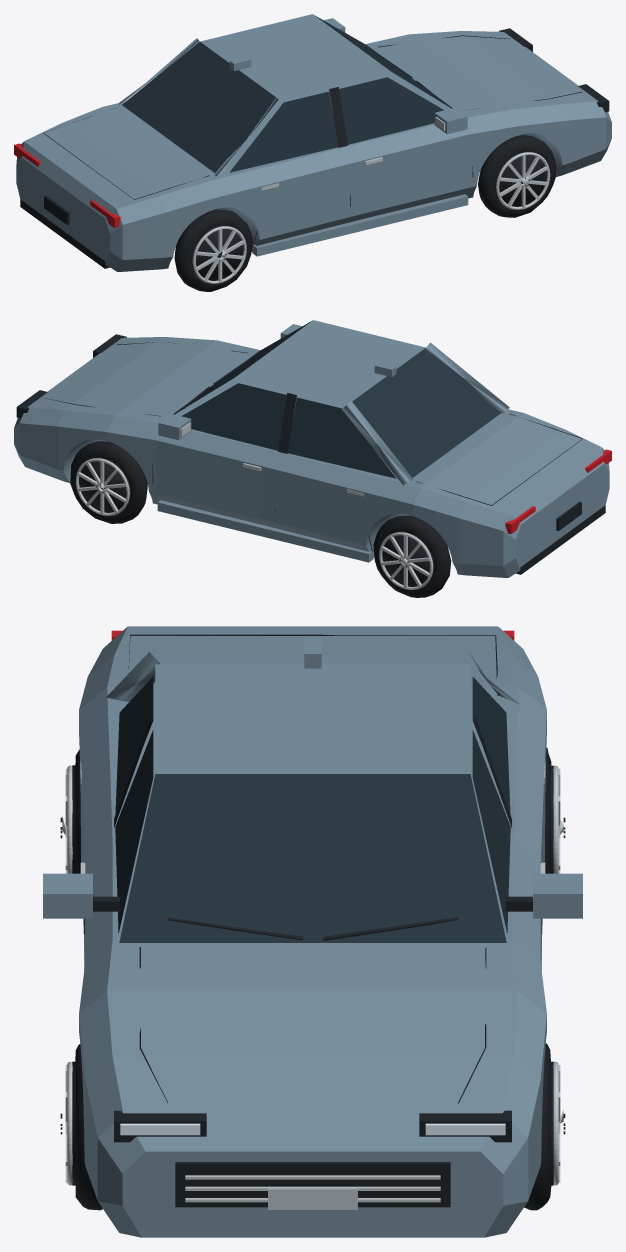
File: riv0.glb
3 views of the same model, one above another, from view 1: azimuth 30°, elevation 25°; view 2: azimuth 150°, elevation 25°; view 3: azimuth 270°, elevation 25° (orthographic). The views are drawn at different scales.
Visible parts, largest first — view 1: 家用車; view 2: 家用車; view 3: 家用車.
Part boxes in pixels (bbox=[...]): 家用車: bbox=[14, 14, 611, 291]; 家用車: bbox=[14, 320, 611, 597]; 家用車: bbox=[43, 626, 582, 1237].
Size of the model in its own units: 4.74 by 1.5 by 2.16.
